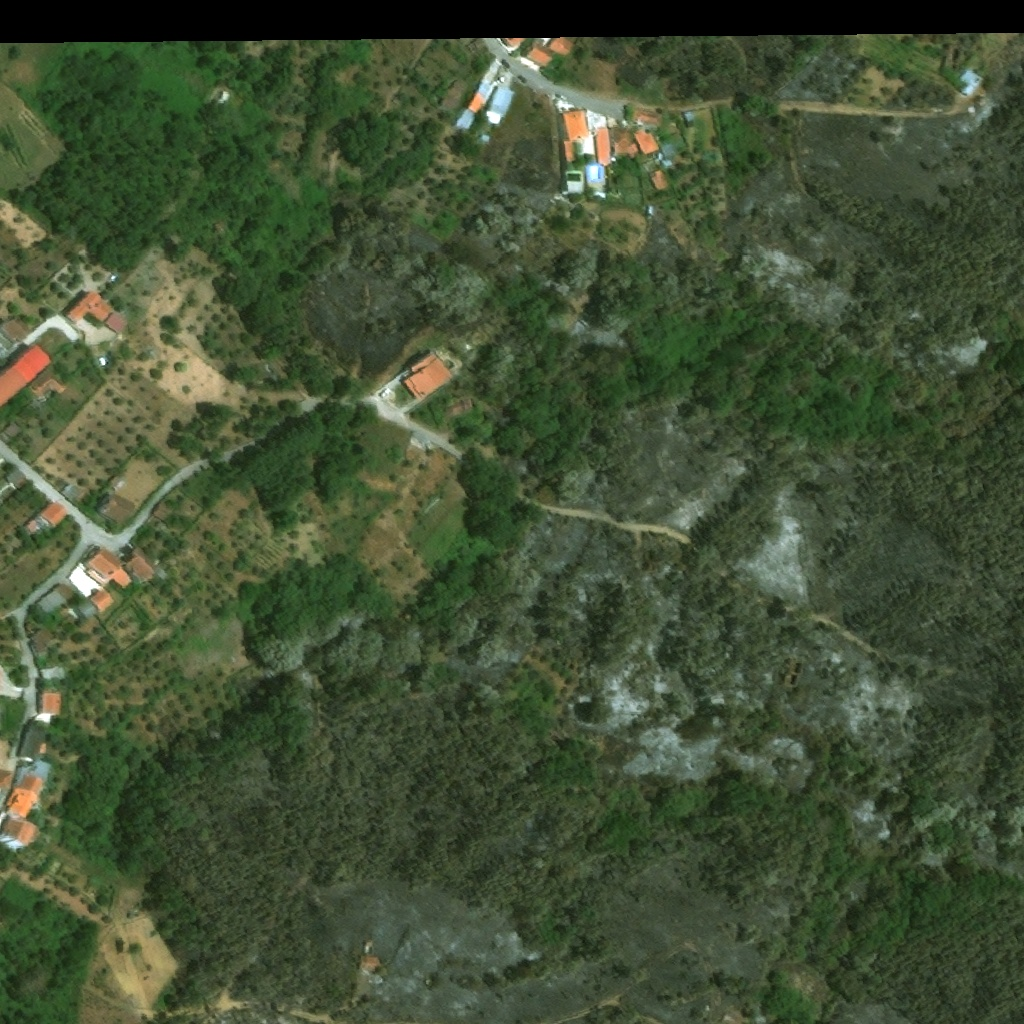0 no-damage: (0, 343, 53, 407), (4, 759, 51, 818), (401, 351, 453, 401), (83, 546, 134, 589), (467, 59, 500, 116), (525, 34, 575, 69), (125, 546, 169, 584), (65, 290, 113, 324), (486, 67, 517, 119), (35, 583, 77, 618), (67, 562, 105, 597), (0, 816, 39, 850), (17, 720, 48, 761), (97, 492, 136, 523), (437, 79, 466, 116), (35, 502, 68, 532), (562, 109, 590, 140), (30, 373, 66, 396), (0, 319, 29, 345), (29, 629, 55, 656), (74, 599, 102, 624), (614, 129, 640, 155), (959, 69, 983, 97), (90, 588, 115, 614), (596, 129, 613, 166), (0, 739, 19, 772), (634, 130, 660, 154), (444, 398, 474, 417), (102, 312, 126, 335), (39, 691, 62, 715), (454, 109, 476, 133), (61, 482, 83, 503), (634, 109, 662, 125), (652, 170, 671, 192), (150, 502, 170, 521), (40, 665, 65, 680), (0, 334, 14, 360), (5, 468, 25, 486), (358, 955, 381, 970), (564, 141, 578, 163), (581, 135, 596, 155), (3, 422, 20, 439), (662, 143, 679, 159), (589, 113, 607, 128), (0, 770, 13, 790), (24, 519, 39, 532), (93, 356, 109, 368), (683, 112, 696, 126), (642, 180, 655, 193), (218, 92, 229, 107), (661, 160, 676, 170), (478, 135, 491, 146), (114, 478, 125, 490), (648, 207, 655, 218)
4 un-classified: (499, 30, 532, 52), (532, 30, 554, 48)
